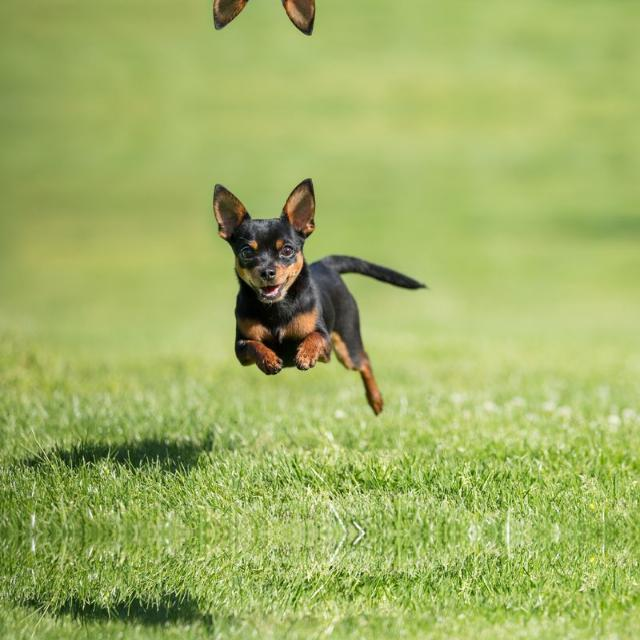dog: (202, 172, 432, 430), (201, 0, 432, 40), (201, 635, 432, 640)
